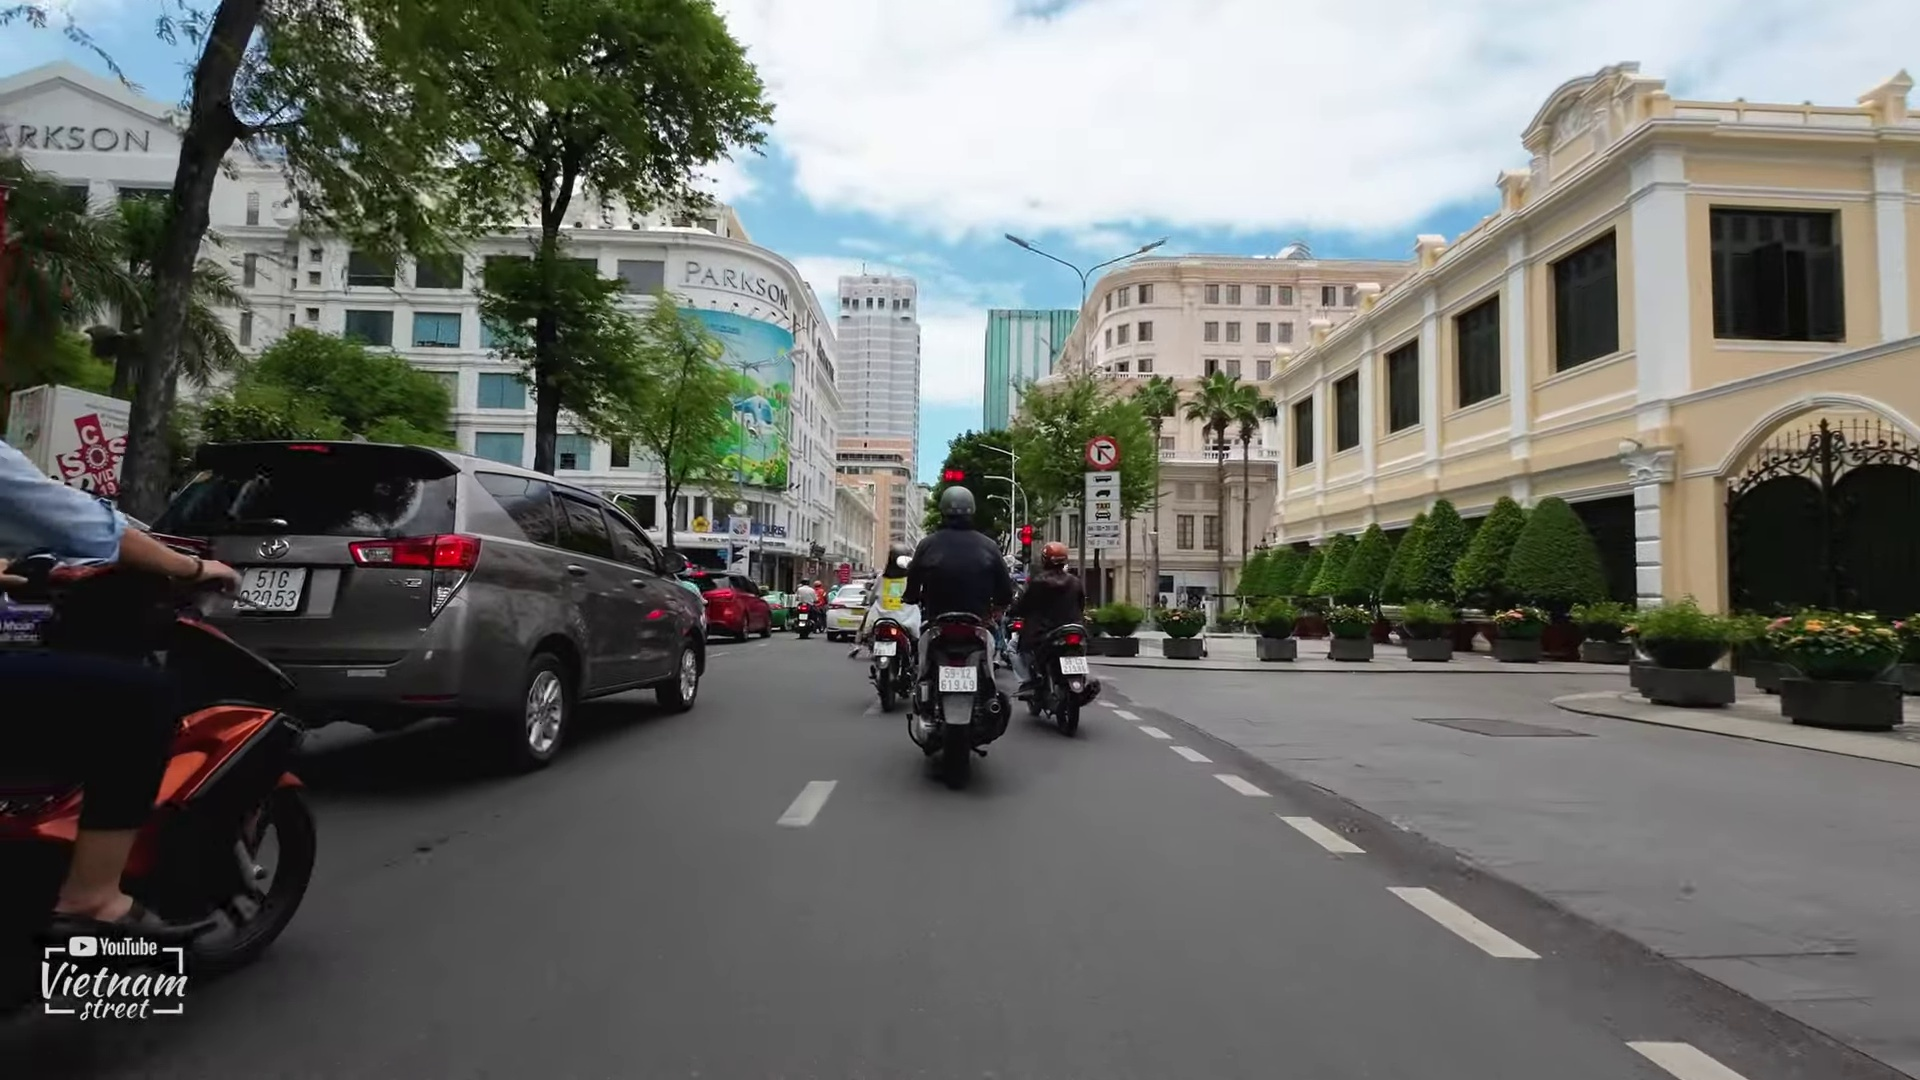cam_re_phai: (1087, 435, 1121, 469)
